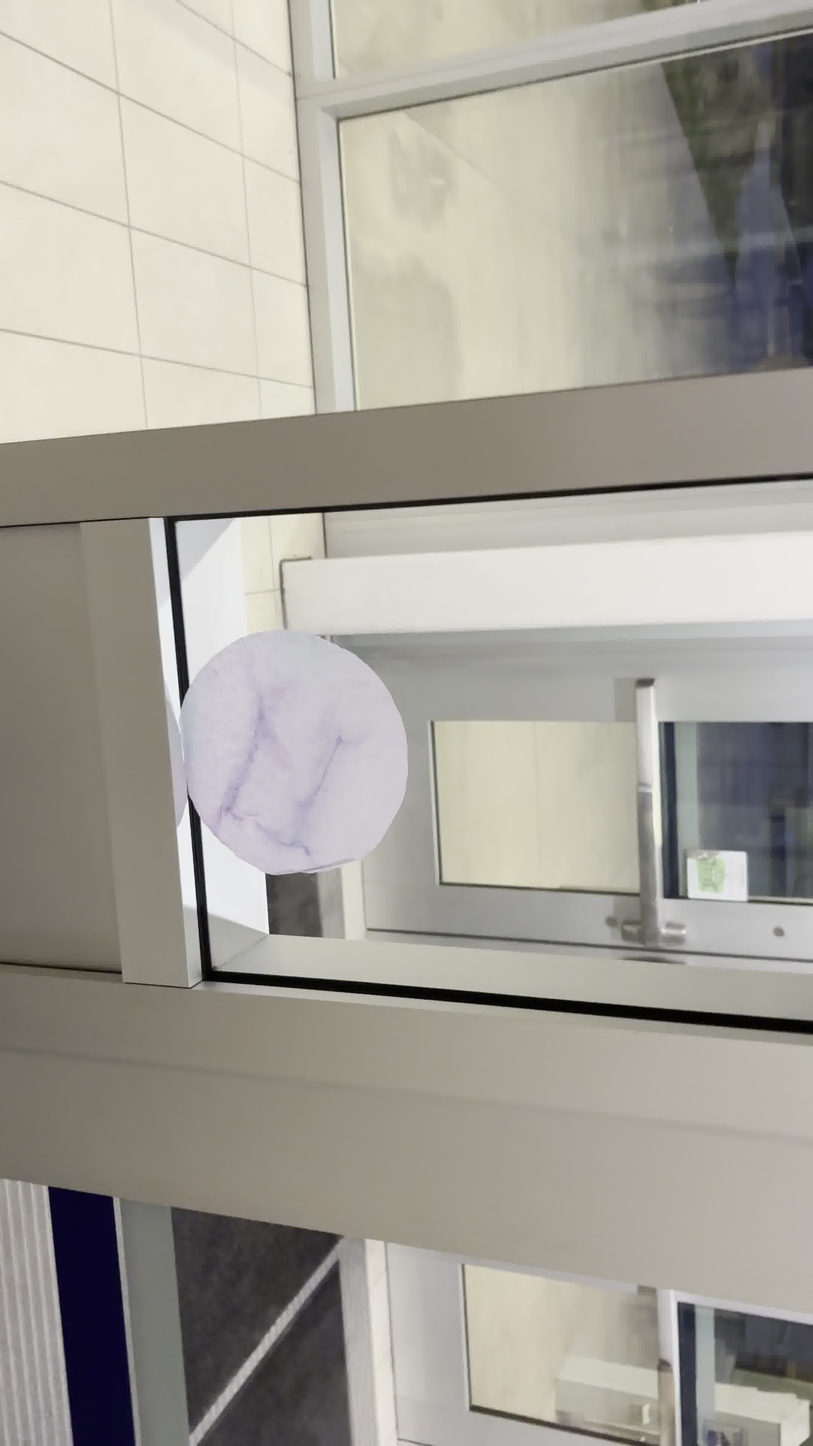Target: (177, 621, 415, 880)
